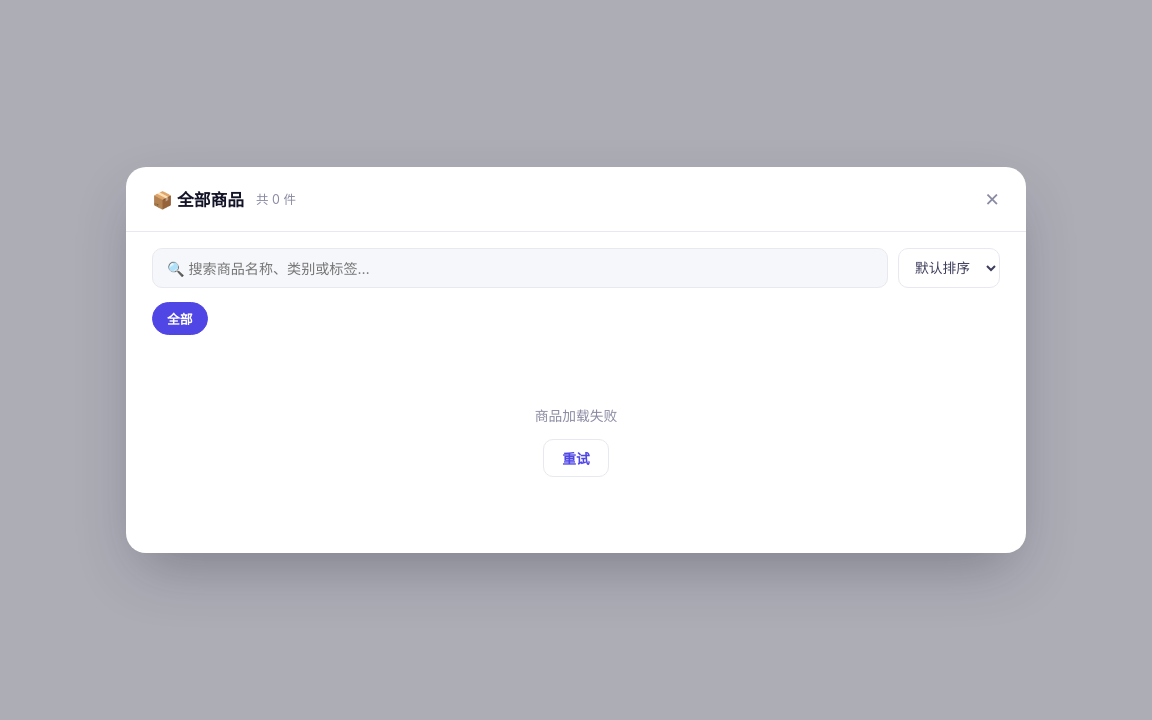
Test case: 拉取失败（R11-5 + R4 末段的上报接缝） › 500 → 错误态 + 重试入口；重试成功后回到清单
Expected: the text "商品加载失败" is shown, [535,408,617,424]
Expected: the text "专业跑鞋" is not shown
Click the button "重试" at coordinates (576, 458), box [543,439,609,477]
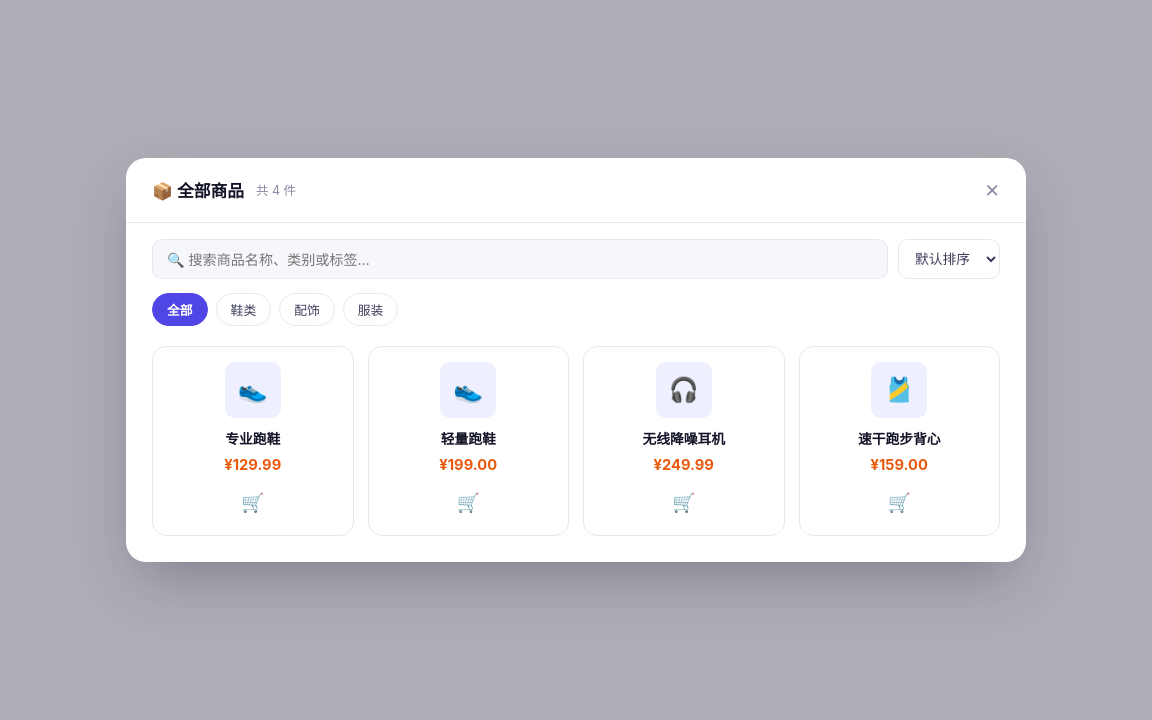
Now the button "专业跑鞋" is shown, box [168,428,338,448]
Now the message "商品加载失败 重试" is gone
